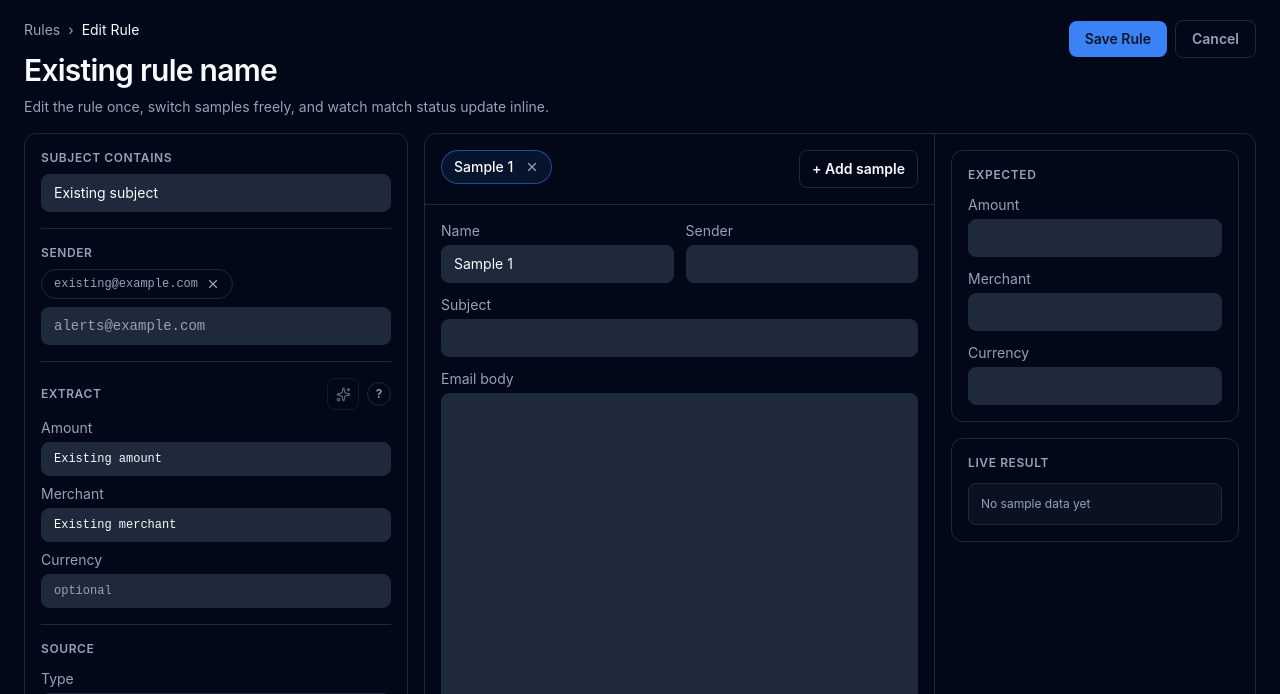
Scenario: RuleForm diagnostics › reverts a blank rule title on blur
The width and height of the screenshot is (1280, 694).
Clear the field named "Rule name" at point(264, 70), box [24, 48, 505, 93]
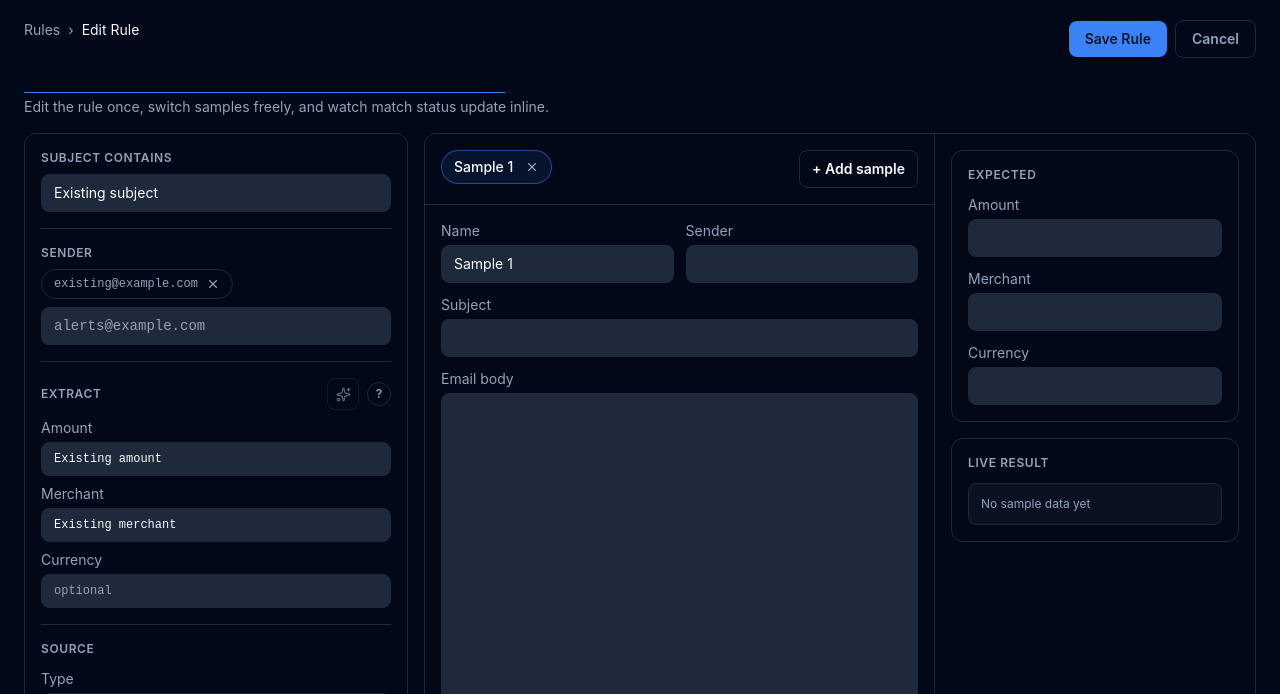
Press Tab
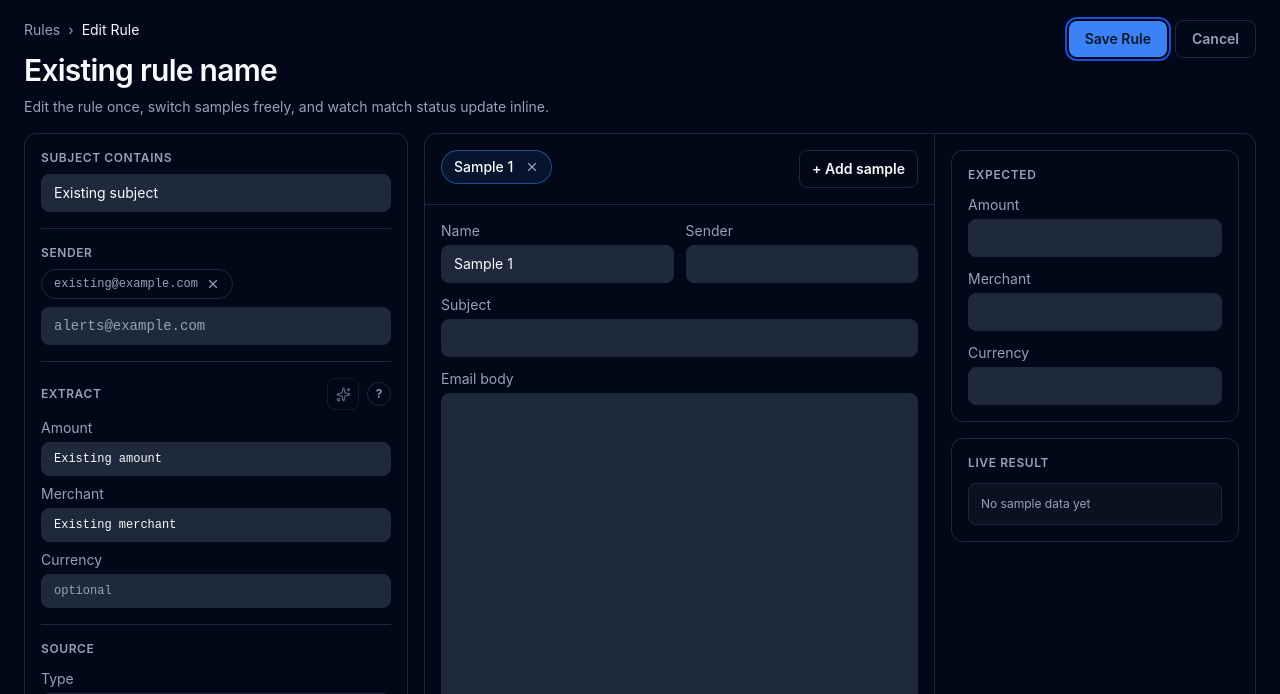
Check: the field named "Rule name" holds "Existing rule name", box [24, 48, 505, 93]
